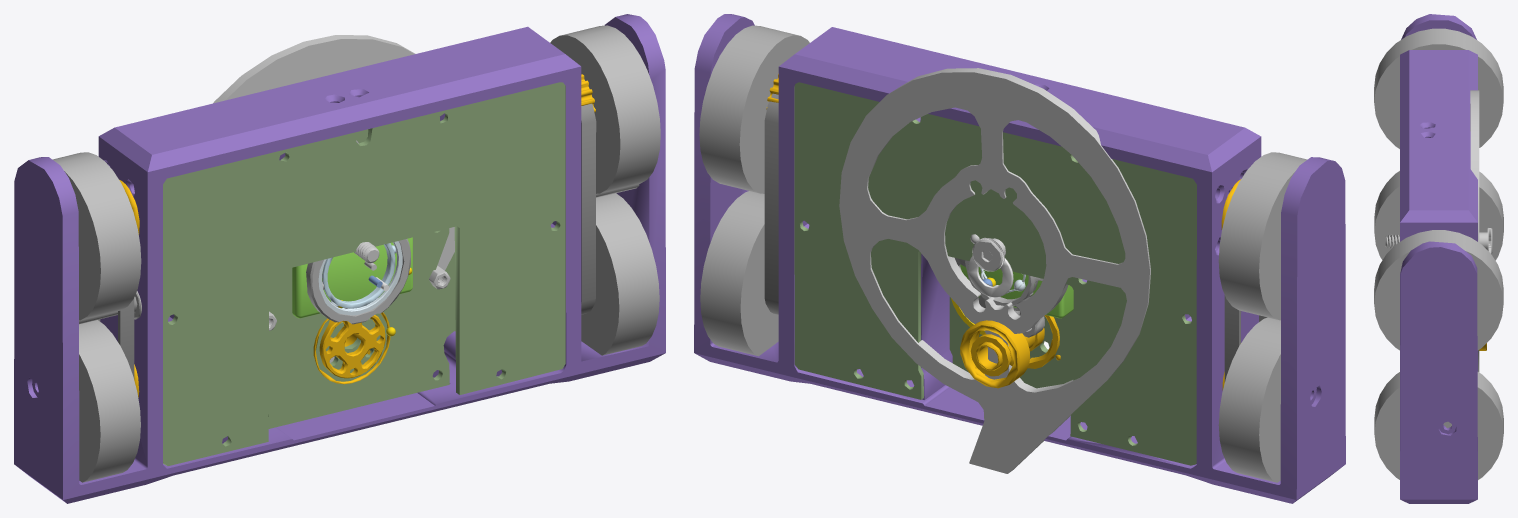
Rendered from nausea-opt.glb.
3 views of the same model, side by side, from view 1: azimuth 30°, elevation 25°; view 2: azimuth 150°, elevation 25°; view 3: azimuth 270°, elevation 25° (orthographic). The views are drawn at different scales.
Visible parts, largest first — view 1: top_plate_primitive0, Chassis_primitive0, wheel_primitive0, 91780A534_Female_Threaded_Hex_Standoff_primitive0, drive_belt_primitive0, 18t_pulley_primitive0, battery_primitive0, RR-410_primitive0, 6704_Bearing_4668K257_primitive0, 698zz_5972K91_primitive0; view 2: top_plate_primitive0, Chassis_primitive0, 91780A534_Female_Threaded_Hex_Standoff_primitive0, wheel_primitive0, 18t_pulley_primitive0, drive_belt_primitive0, battery_primitive0, RR-410_primitive0, 6704_Bearing_4668K257_primitive0_2; view 3: Chassis_primitive0, wheel_primitive0, 91780A534_Female_Threaded_Hex_Standoff_primitive0.
Boxes of the visible parts, left/top/right/bottom form: top_plate_primitive0: left=163, top=82, right=565, bottom=465; Chassis_primitive0: left=14, top=14, right=665, bottom=503; wheel_primitive0: left=52, top=25, right=660, bottom=482; 91780A534_Female_Threaded_Hex_Standoff_primitive0: left=213, top=35, right=454, bottom=362; drive_belt_primitive0: left=98, top=103, right=596, bottom=379; 18t_pulley_primitive0: left=119, top=74, right=595, bottom=397; battery_primitive0: left=292, top=237, right=412, bottom=318; RR-410_primitive0: left=79, top=184, right=639, bottom=324; 6704_Bearing_4668K257_primitive0: left=322, top=243, right=396, bottom=308; 698zz_5972K91_primitive0: left=318, top=241, right=402, bottom=315; top_plate_primitive0: left=794, top=82, right=1196, bottom=465; Chassis_primitive0: left=694, top=14, right=1345, bottom=503; 91780A534_Female_Threaded_Hex_Standoff_primitive0: left=839, top=68, right=1150, bottom=473; wheel_primitive0: left=699, top=25, right=1307, bottom=482; 18t_pulley_primitive0: left=766, top=74, right=1240, bottom=390; drive_belt_primitive0: left=764, top=93, right=1267, bottom=382; battery_primitive0: left=960, top=264, right=1073, bottom=318; RR-410_primitive0: left=955, top=258, right=1044, bottom=337; 6704_Bearing_4668K257_primitive0_2: left=968, top=255, right=1013, bottom=297; Chassis_primitive0: left=1400, top=14, right=1477, bottom=503; wheel_primitive0: left=1374, top=28, right=1503, bottom=479; 91780A534_Female_Threaded_Hex_Standoff_primitive0: left=1385, top=90, right=1492, bottom=371.
Bounding box in the file's own units: 6221 × 3894 × 1459.
